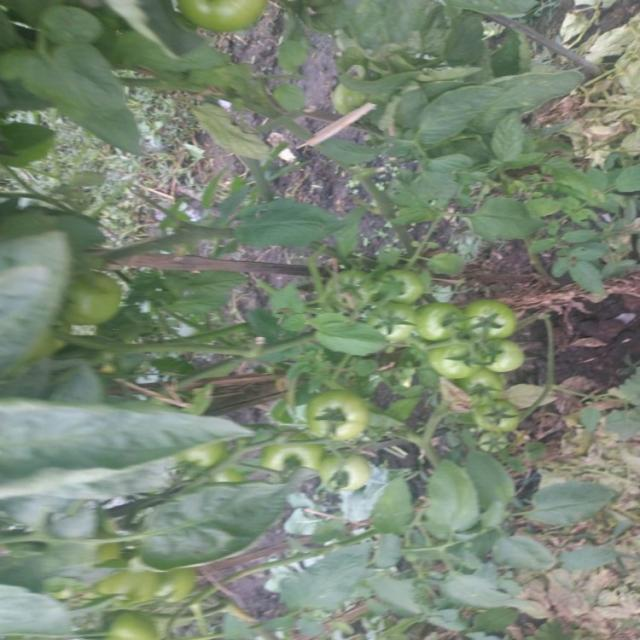tomato: (93, 561, 197, 612), (64, 263, 126, 329), (305, 387, 372, 445), (171, 1, 273, 36), (417, 295, 477, 352), (266, 432, 329, 486), (179, 442, 249, 489), (423, 340, 487, 390), (378, 264, 441, 313), (472, 295, 522, 346), (320, 447, 368, 500), (372, 304, 425, 347), (484, 330, 527, 381), (100, 607, 151, 640)
